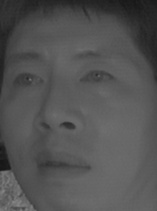eye: (78, 66, 117, 90), (9, 69, 46, 91)
mouth: (29, 143, 95, 182)
